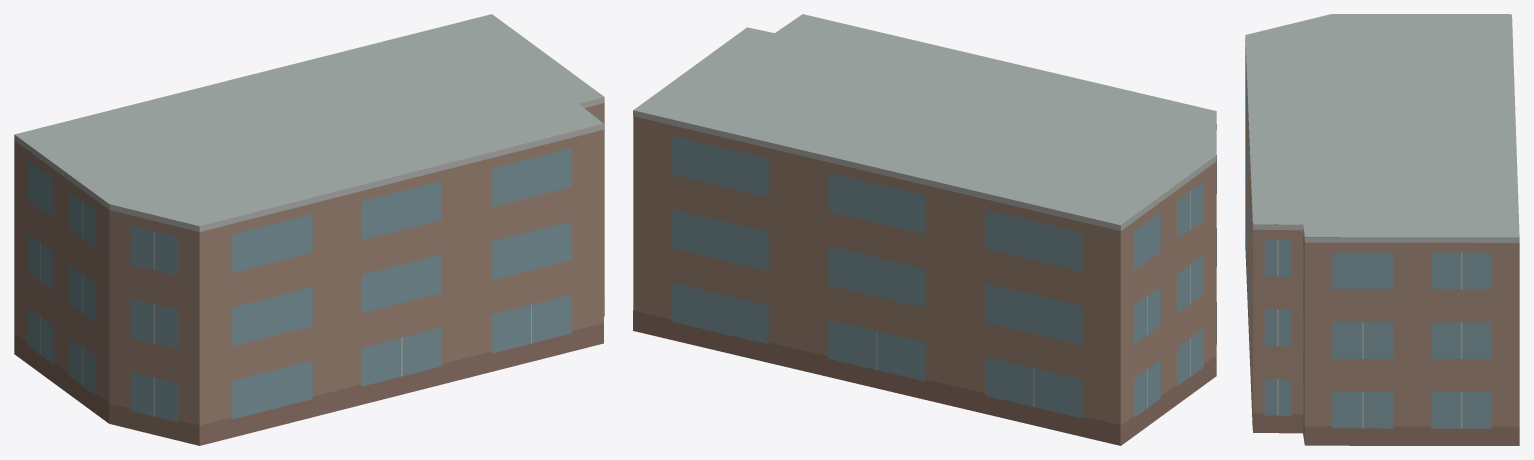
File: survey-upis-32586449.glb
The picture shows the model from 3 angles, left to right: view 1: azimuth 30°, elevation 25°; view 2: azimuth 150°, elevation 25°; view 3: azimuth 270°, elevation 25°; orthographic projection. The views are drawn at different scales.
Parts seen in each view (by area): view 1: survey-upis-32586449.tmp; view 2: survey-upis-32586449.tmp; view 3: survey-upis-32586449.tmp.
Boxes of the visible parts, left/top/right/bottom form: survey-upis-32586449.tmp: left=14, top=14, right=604, bottom=445; survey-upis-32586449.tmp: left=633, top=14, right=1216, bottom=445; survey-upis-32586449.tmp: left=1245, top=14, right=1519, bottom=445.
Size of the model in its own units: 21.02 by 9.15 by 10.91.
